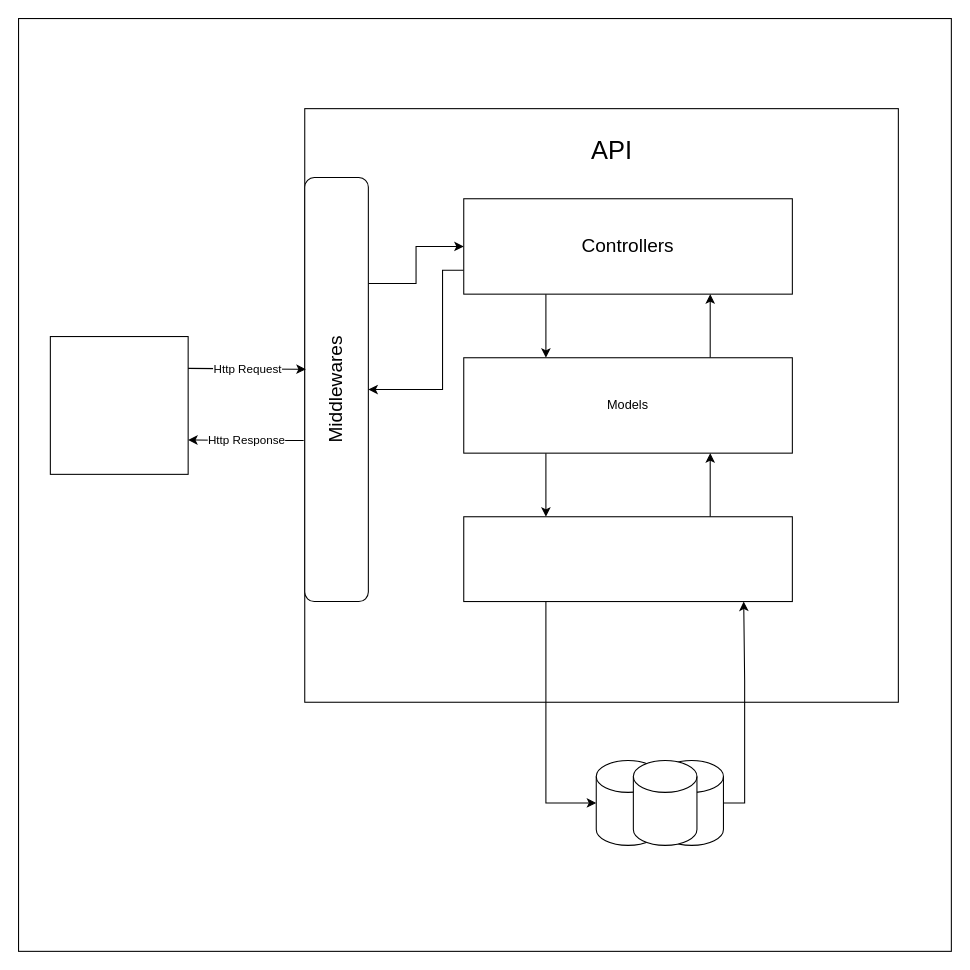
Some shapes in this 970 by 970 pixel diagram are drawn without their labels. Each missing label, with the box of its shape:
Client: (49, 335, 188, 474)
Services: (463, 516, 792, 602)
